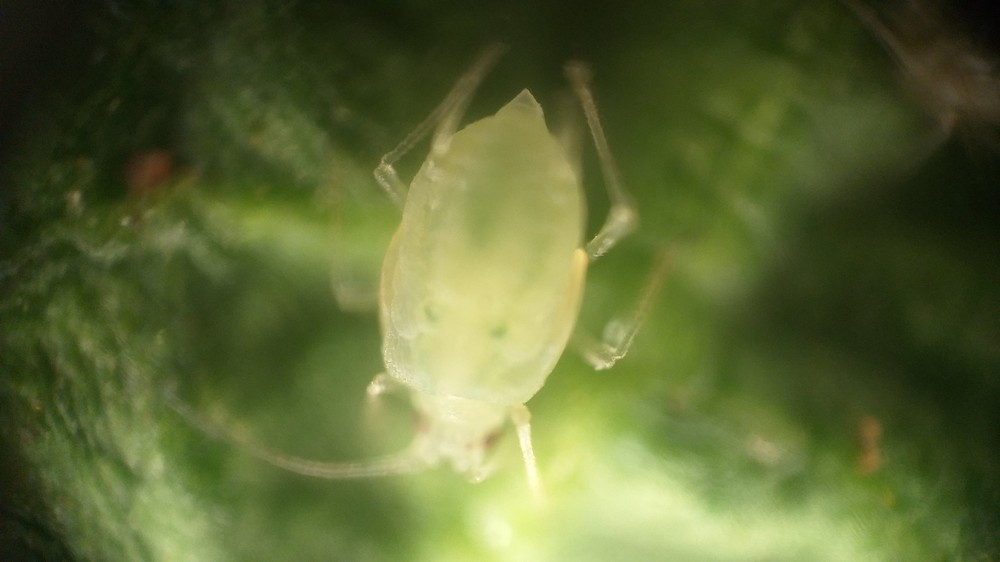Pulgon: (224, 25, 740, 557)
